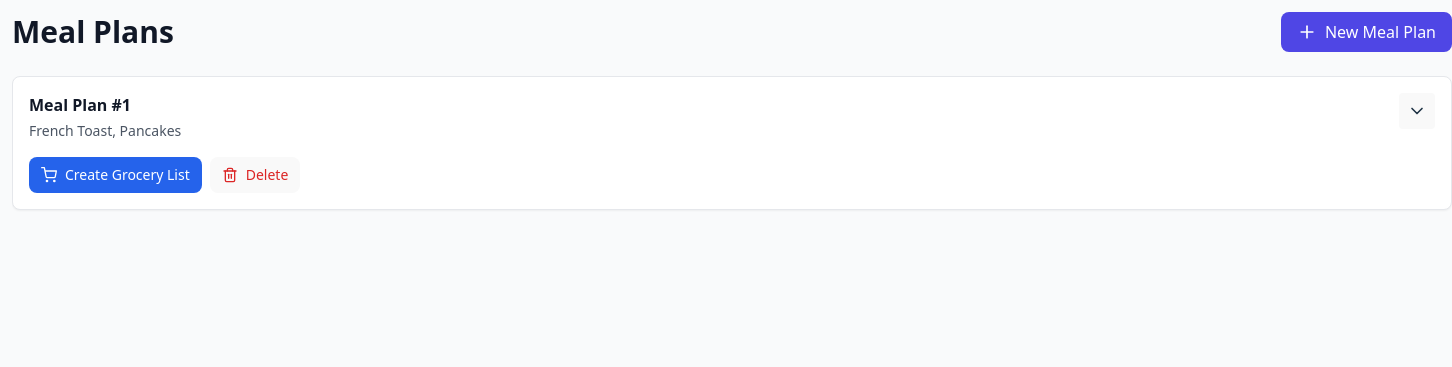
Scenario: MealplanList › fetches and shows ingredients when the expand button is clicked
Expected: the heading "Meal Plan #1" is shown, top-left (29, 94), bottom-right (131, 116)
What coordinates should you click on to do the following:
click the button titled "Show ingredients"
I would click on:
 (1417, 111)
Its box is top-left (1399, 93), bottom-right (1435, 129).
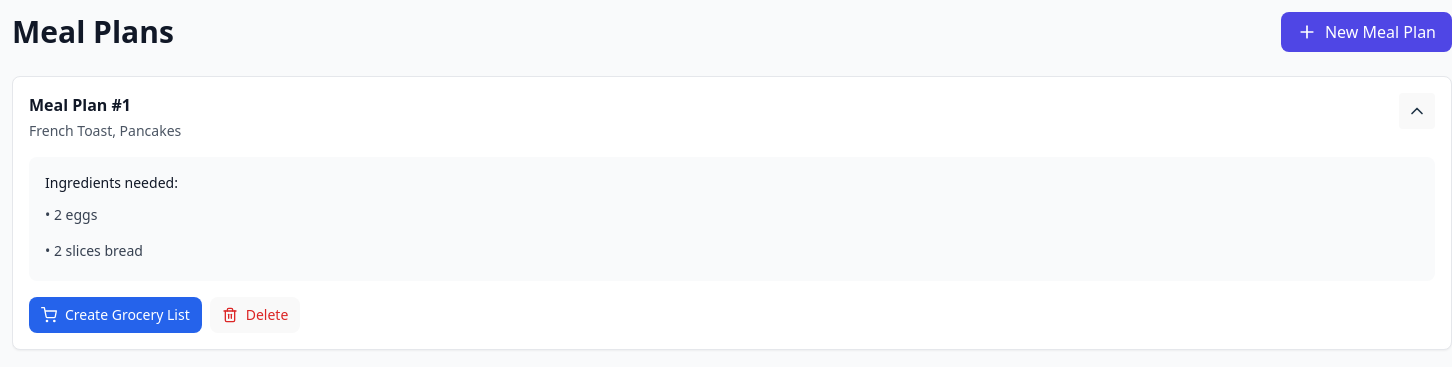
Now the text "• 2 eggs" is shown, box top-left (45, 205), bottom-right (97, 224)
Now the text "• 2 slices bread" is shown, box top-left (45, 241), bottom-right (143, 260)
